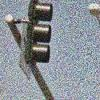traffic lights: (25, 1, 54, 65)
